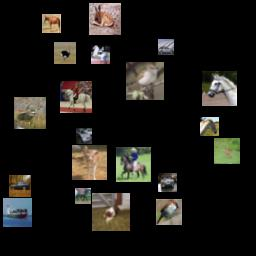automobile: (9, 175, 31, 197), (158, 173, 177, 192), (76, 128, 92, 144), (158, 39, 174, 55)
bird: (126, 62, 164, 100), (156, 199, 182, 225), (54, 42, 76, 64)
cat: (92, 193, 130, 231)
deer: (72, 145, 107, 180), (14, 97, 46, 129), (89, 3, 121, 35), (214, 138, 240, 164)
ship: (3, 198, 32, 227)
